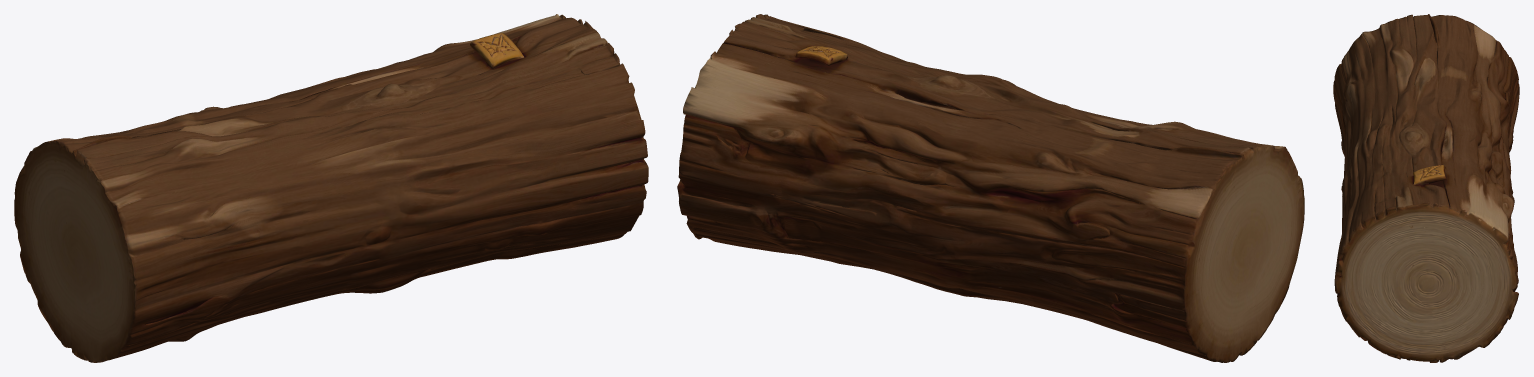
Rendered from wood+log+2.glb.
The picture shows the model from 3 angles, left to right: view 1: azimuth 30°, elevation 25°; view 2: azimuth 150°, elevation 25°; view 3: azimuth 270°, elevation 25°; orthographic projection. The views are drawn at different scales.
Parts seen in each view (by area): view 1: tripo_node_ab68c3b2-4ee0-4a4a-abf4-52b7c8ec2f4d; view 2: tripo_node_ab68c3b2-4ee0-4a4a-abf4-52b7c8ec2f4d; view 3: tripo_node_ab68c3b2-4ee0-4a4a-abf4-52b7c8ec2f4d.
Part boxes in pixels (x1,y1,x2,y2): tripo_node_ab68c3b2-4ee0-4a4a-abf4-52b7c8ec2f4d: (14, 14, 648, 362); tripo_node_ab68c3b2-4ee0-4a4a-abf4-52b7c8ec2f4d: (677, 14, 1304, 362); tripo_node_ab68c3b2-4ee0-4a4a-abf4-52b7c8ec2f4d: (1333, 14, 1519, 362).
Size of the model in its own units: 0.9814 by 0.3802 by 0.3994.
Materials: 1 (1 with a texture image).
